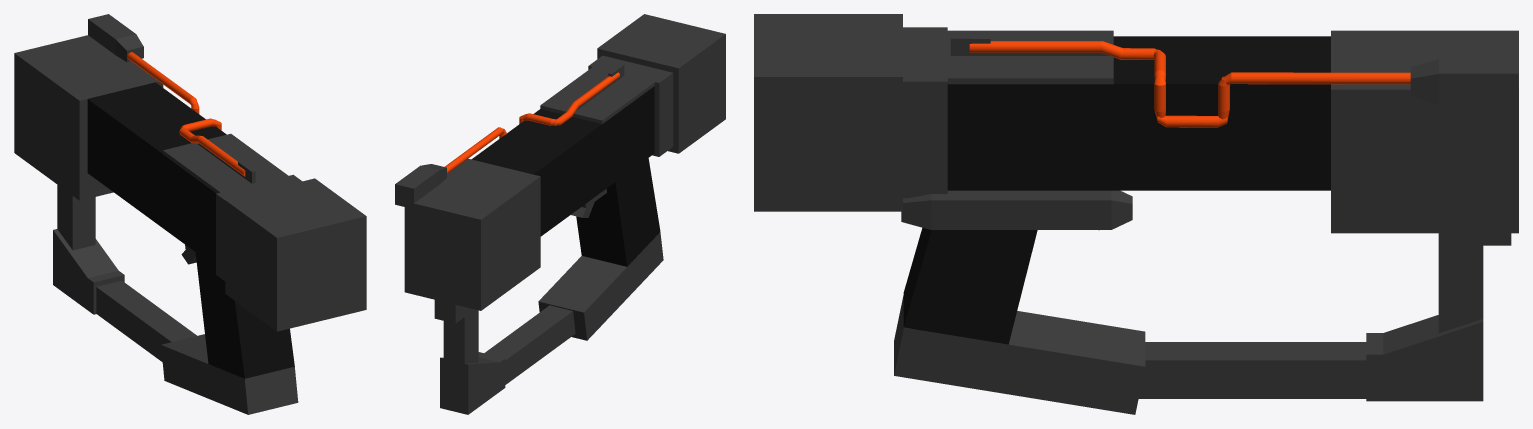
File: FalloutLaserPistolFull.fbx
The picture shows the model from 3 angles, left to right: view 1: azimuth 30°, elevation 25°; view 2: azimuth 150°, elevation 25°; view 3: azimuth 270°, elevation 25°; orthographic projection. The views are drawn at different scales.
Visible parts, largest first — view 1: Cube, Cube_008; view 2: Cube, Cube_008; view 3: Cube, Cube_008.
Part boxes in pixels (x1,y1,x2,y2): Cube: (14,35,366,414); Cube_008: (88,14,143,61); Cube: (404,14,725,414); Cube_008: (395,164,446,206); Cube: (754,14,1518,414); Cube_008: (1410,59,1518,105).
Size of the model in its own units: 2.68 by 6.59 by 12.67.
